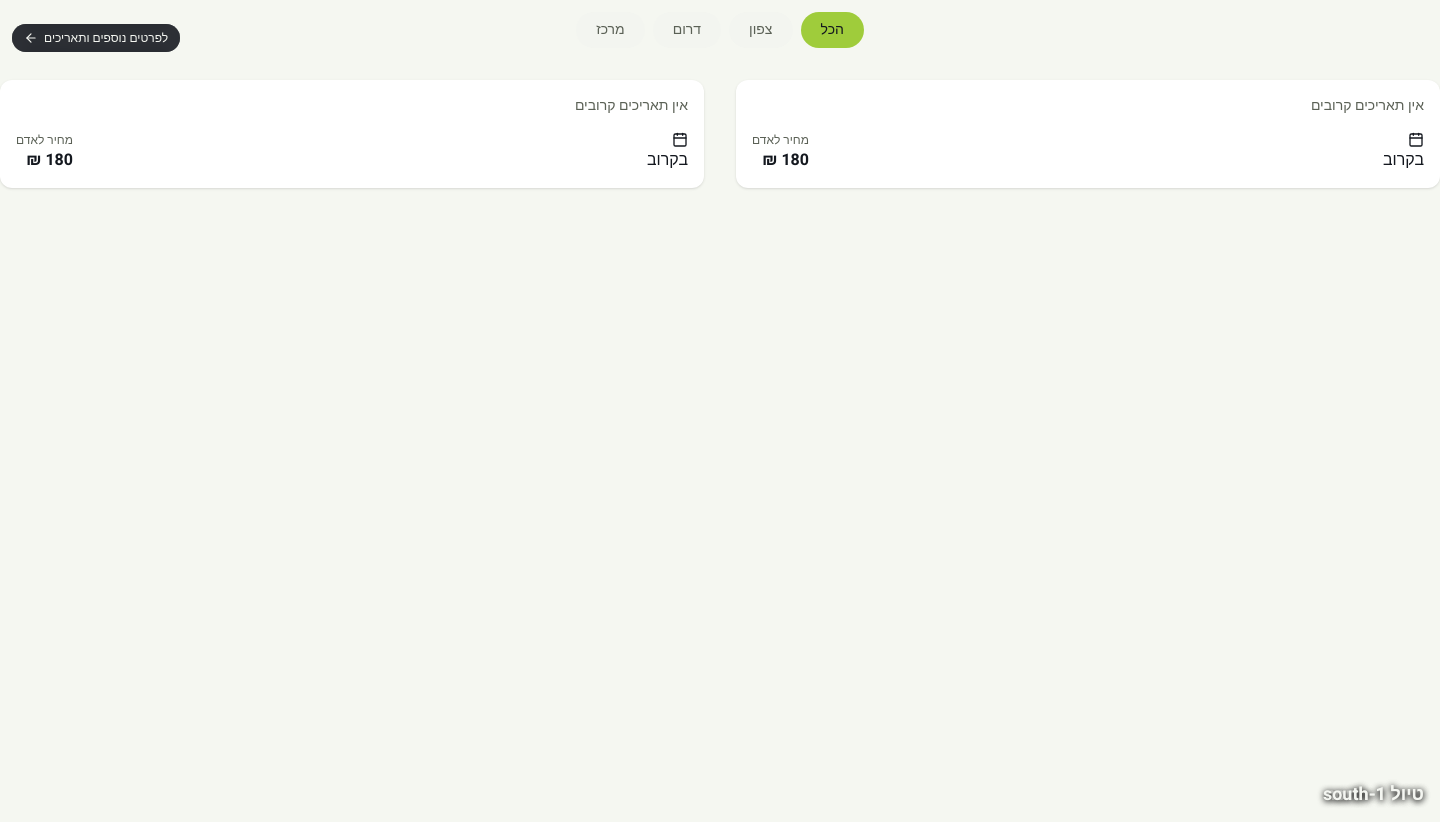
CatalogGrid › shows an empty-state message for a region with no trails
Click the button "מרכז" at point(610, 30), box [576,12,645,48]
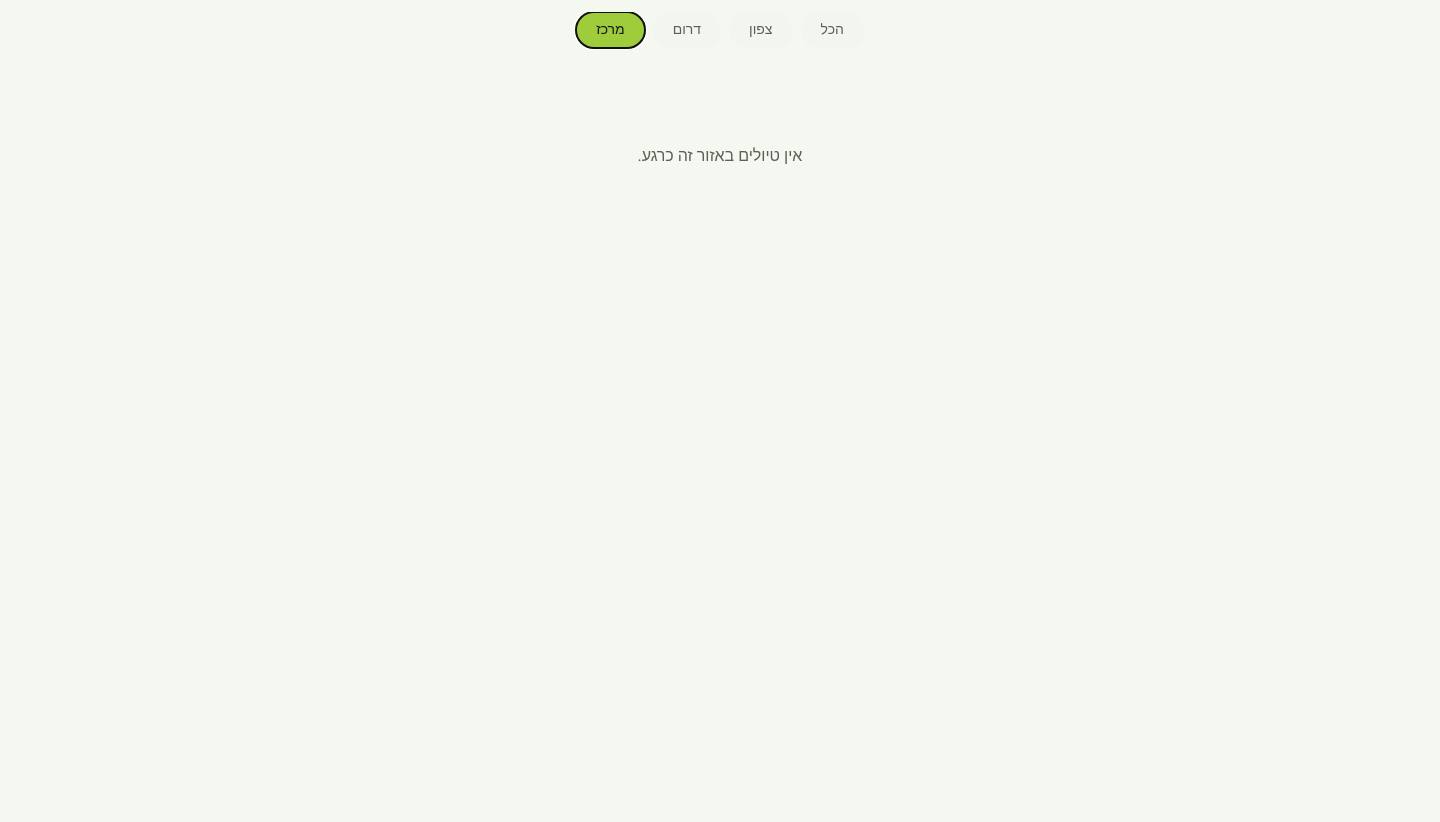
expect the text "אין טיולים באזור זה כרגע." is shown: met, box [638,144,802,168]
